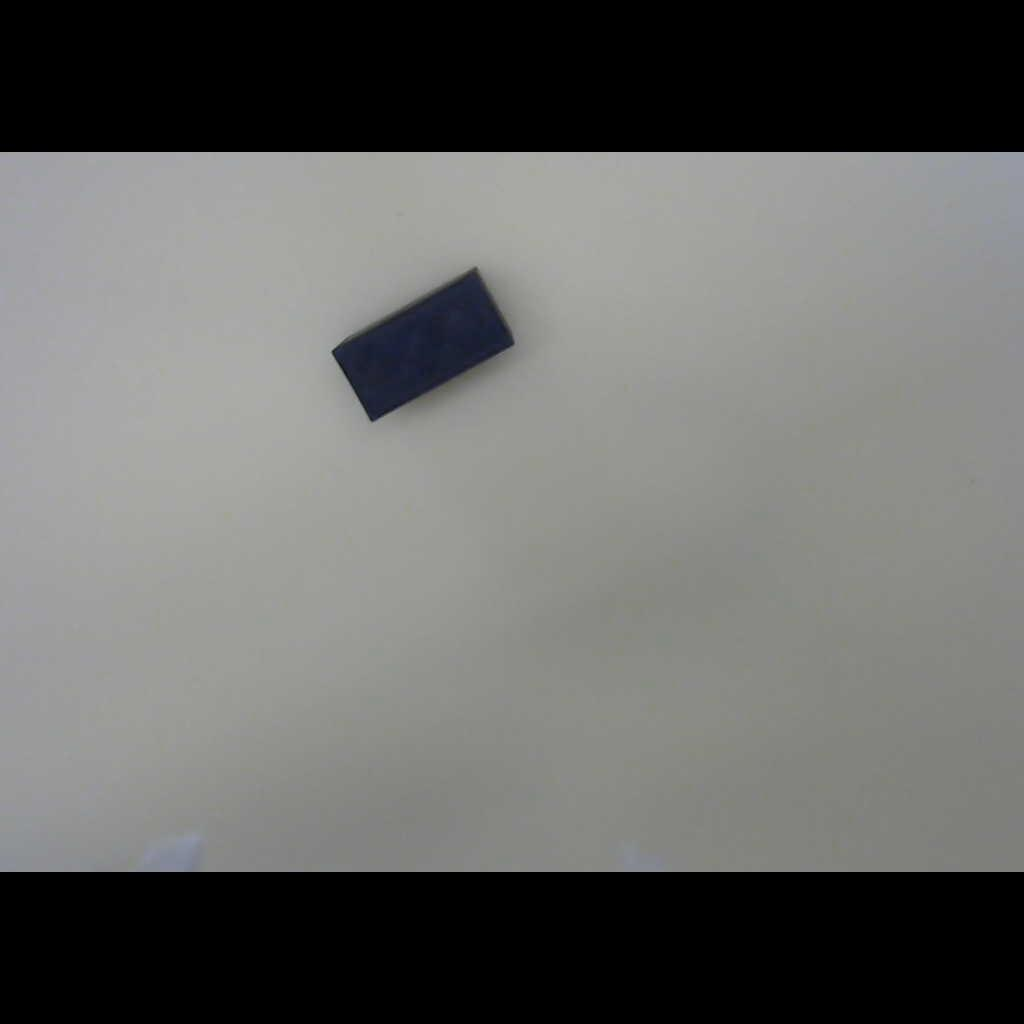rectangle: (304, 240, 546, 452)
